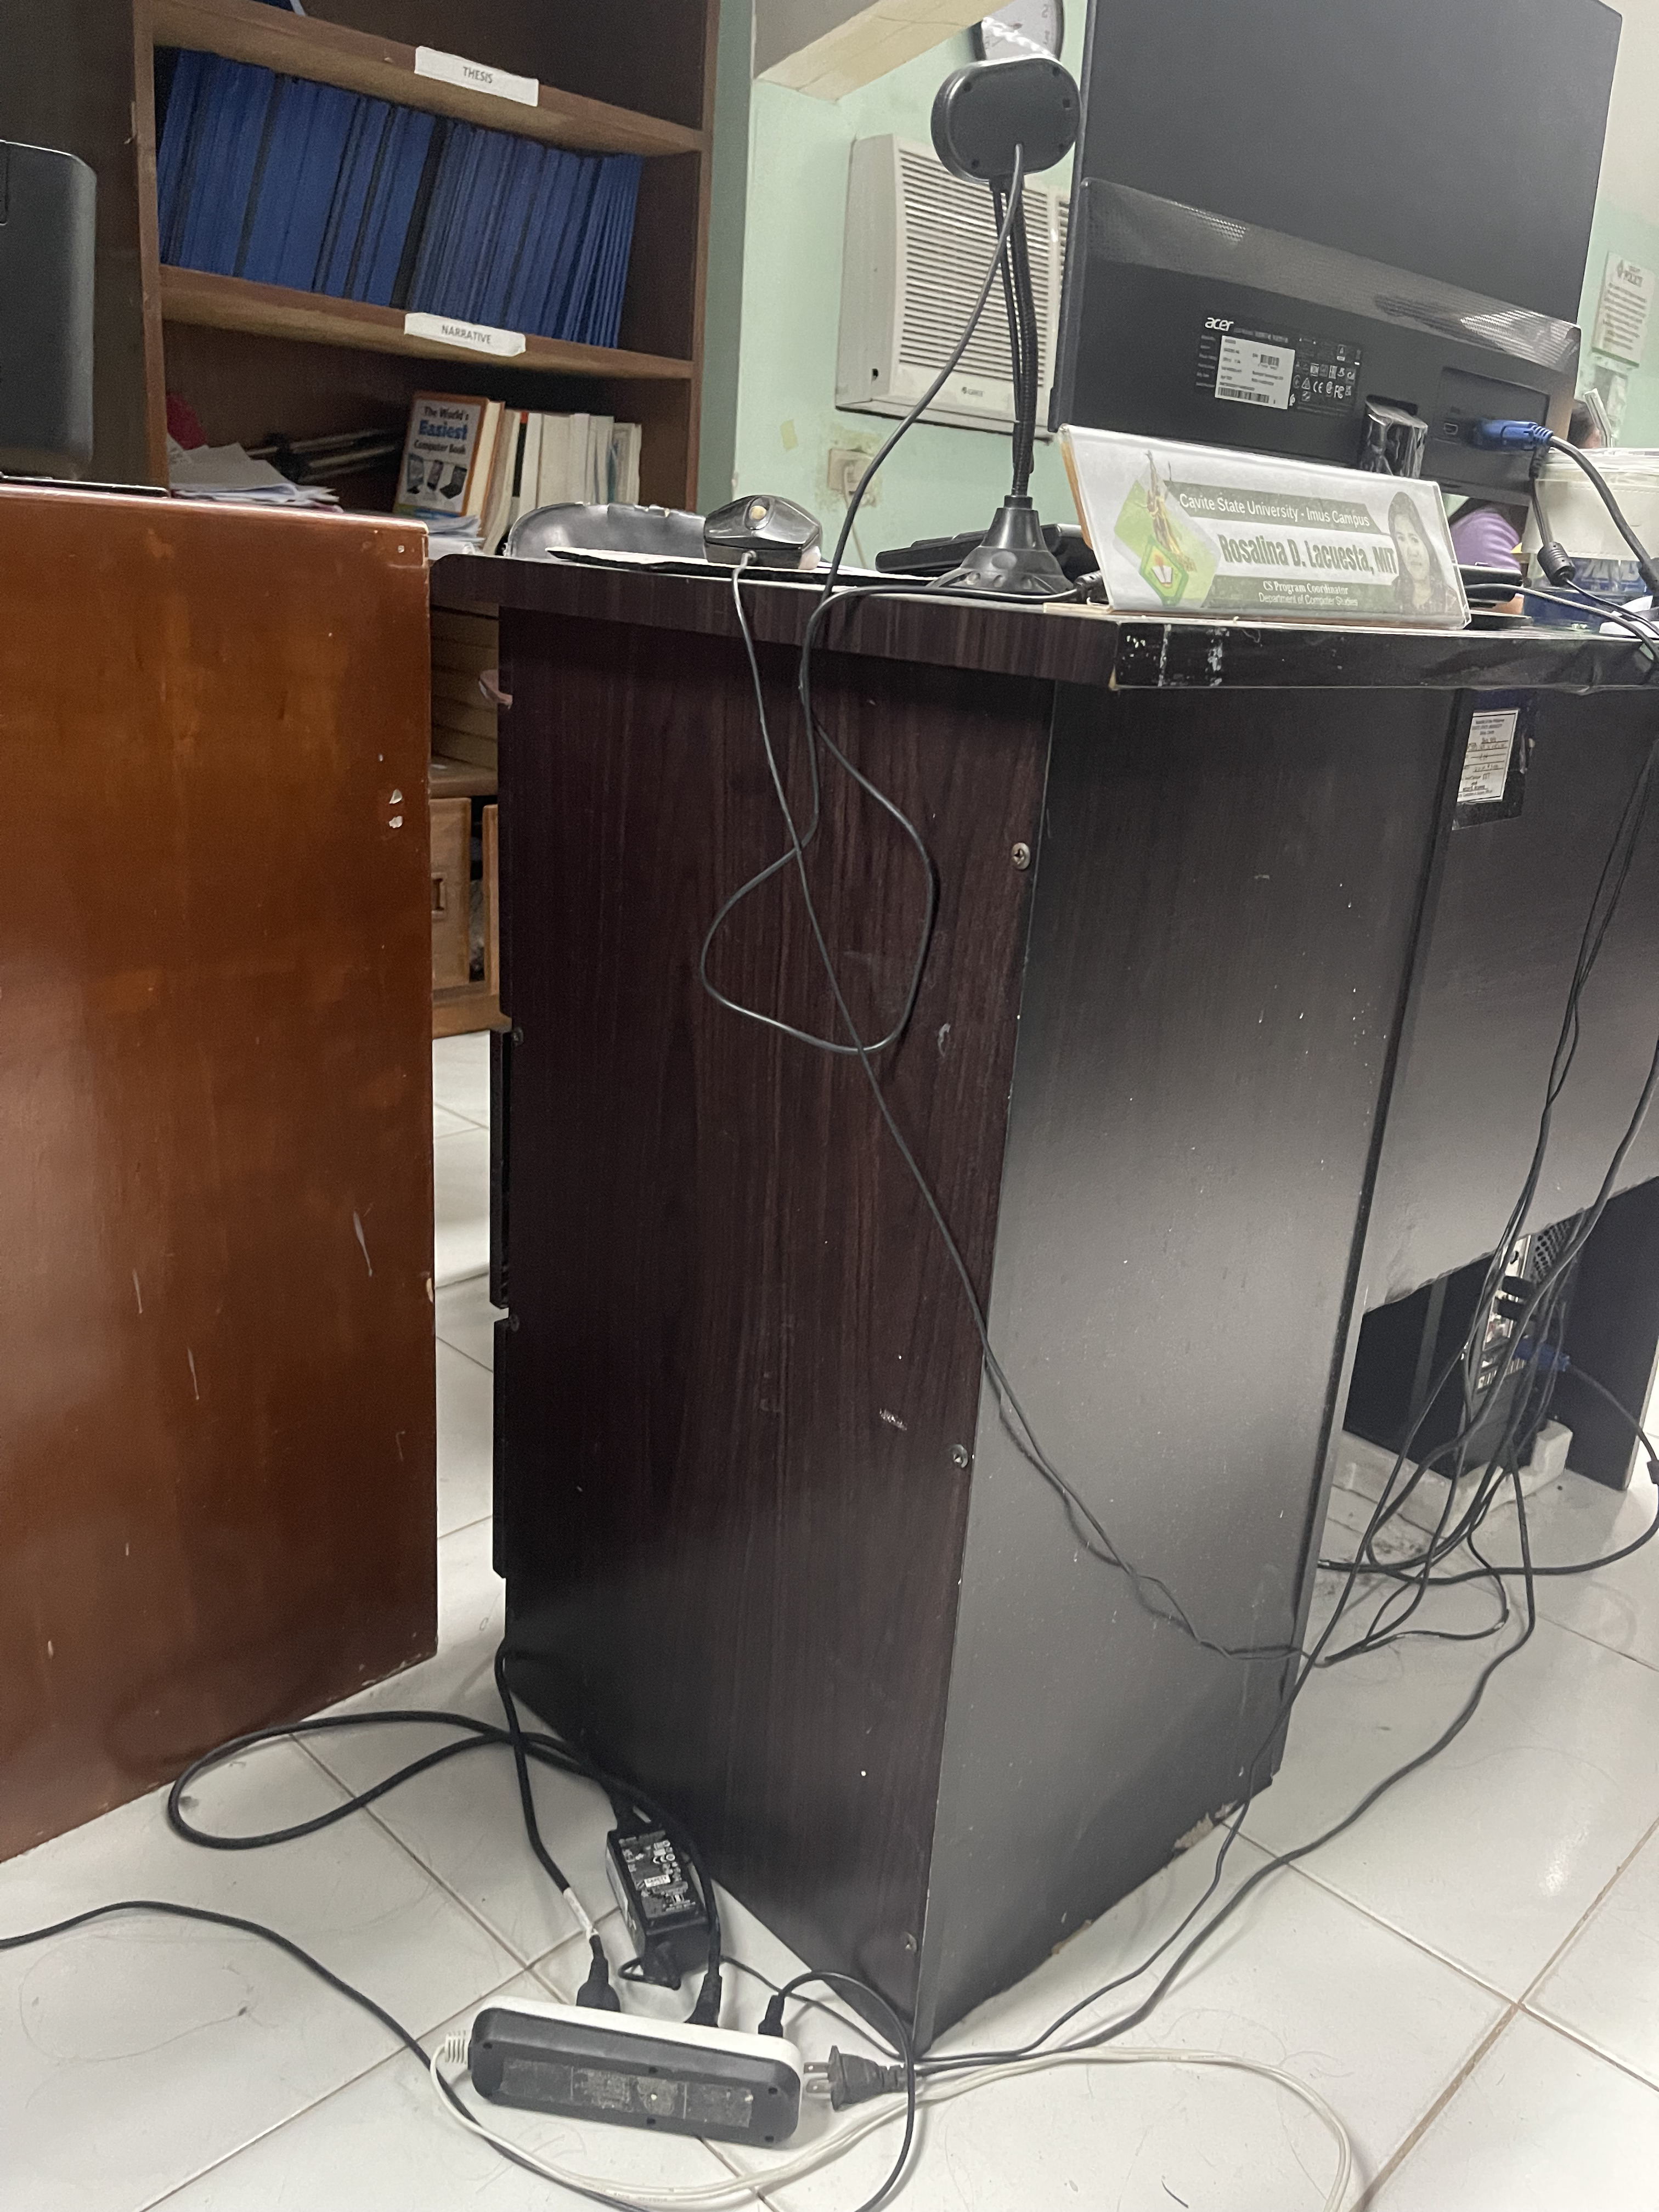table1: (429, 542, 1659, 2078)
